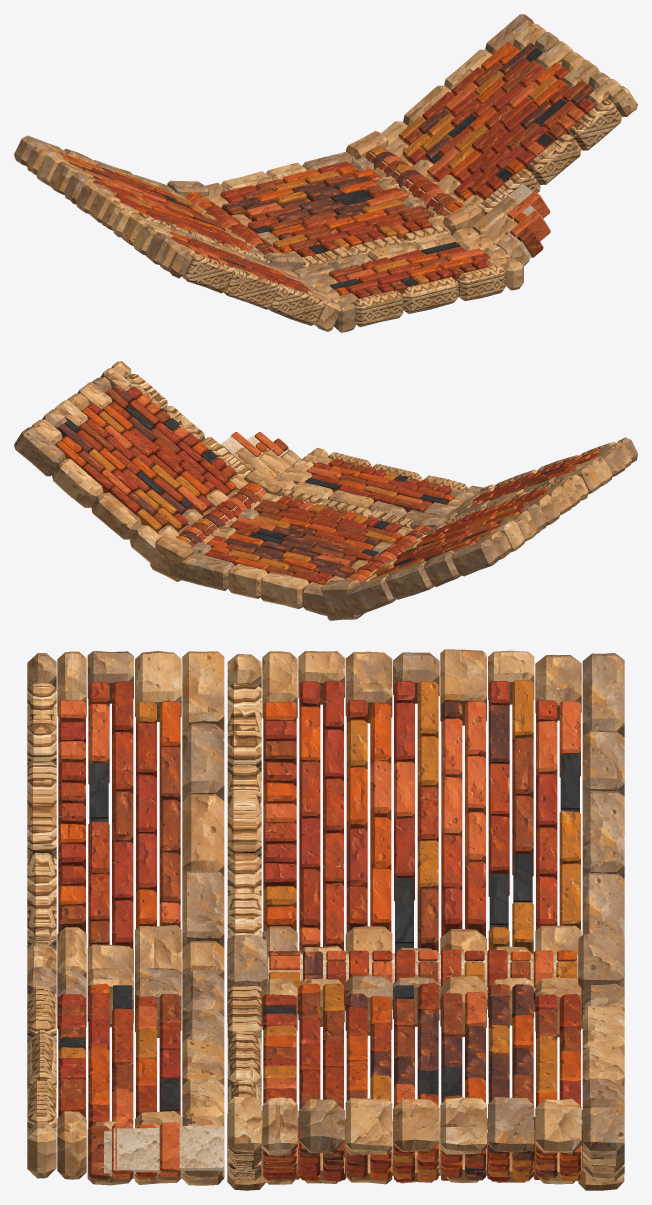
File: kiln_rim_fallen__clay_brick.glb
3 views of the same model, one above another, from view 1: azimuth 30°, elevation 25°; view 2: azimuth 150°, elevation 25°; view 3: azimuth 270°, elevation 25° (orthographic). The views are drawn at different scales.
Visible parts, largest first — view 1: model; view 2: model; view 3: model.
Boxes of the visible parts, left/top/right/bottom form: model: left=14, top=14, right=637, bottom=332; model: left=14, top=361, right=637, bottom=620; model: left=27, top=649, right=624, bottom=1190.
Size of the model in its own units: 5.56 by 1.27 by 2.98.
15 materials, 15 textured.
